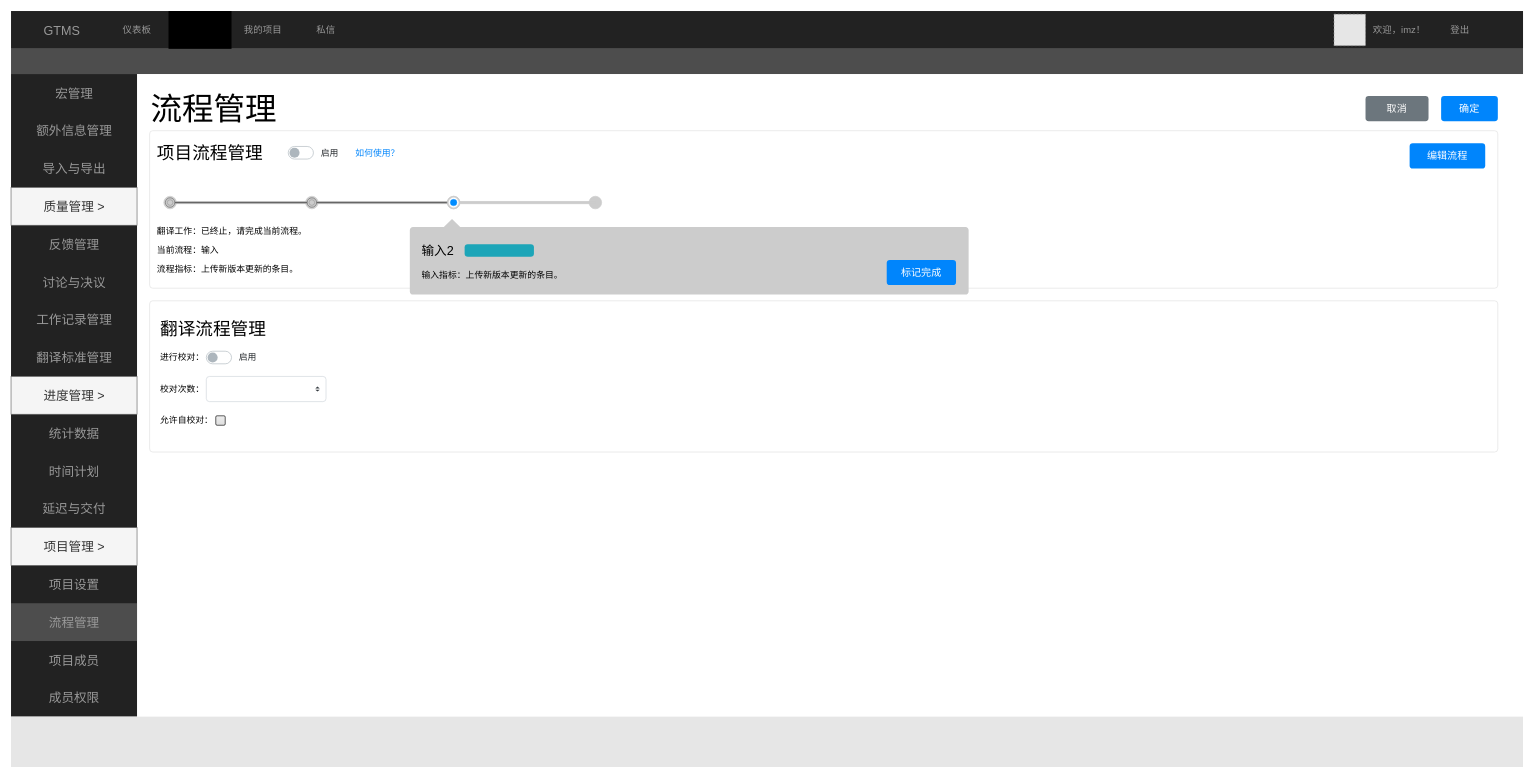
Image size: 1534x777. Some labels were removed from this diagram. Grey dashed boxes stand in for pictures. Here are the shapes that lost their labels. From the top down, the box of each, then its label:
(168, 11, 231, 49): 项目浏览
(11, 49, 1523, 74): 示例中文化项目01 / 流程管理
(99, 180, 666, 213): 翻译 输入 输入 翻译
(464, 244, 534, 256): 手动控制完成
(11, 716, 1523, 767): Yifan Xu 毕业设计 @天津工业大学
